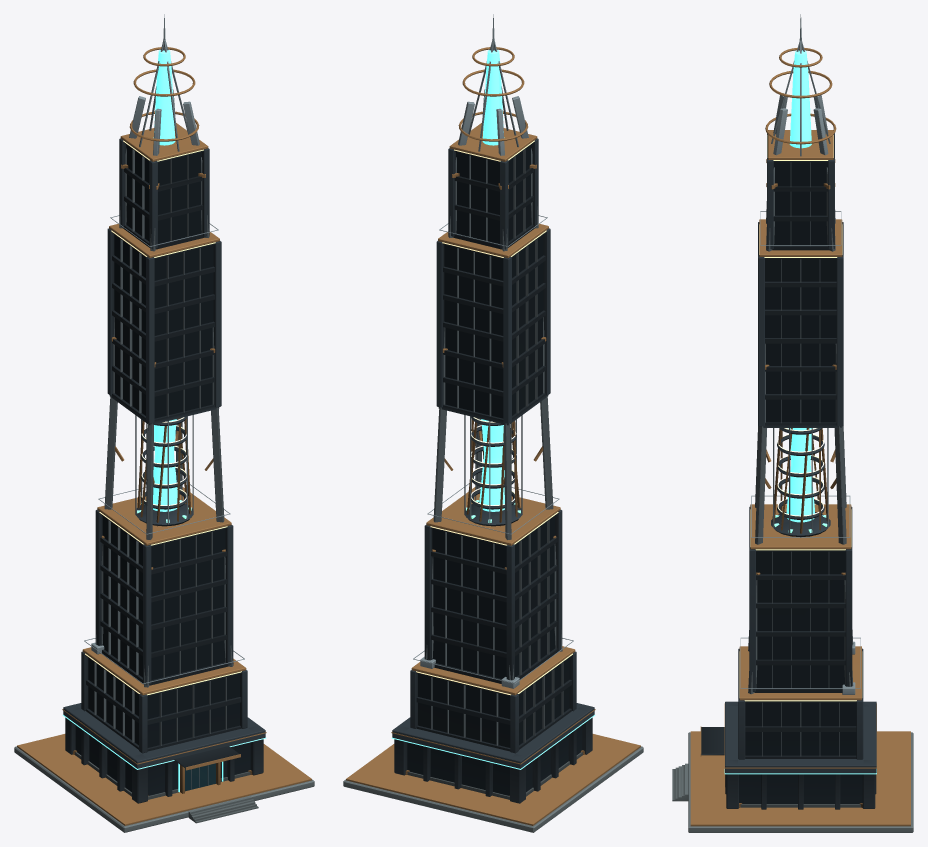
File: agent-spire.lod1.glb
3 views of the same model, side by side, from view 1: azimuth 30°, elevation 25°; view 2: azimuth 150°, elevation 25°; view 3: azimuth 270°, elevation 25° (orthographic). The views are drawn at different scales.
Visible parts, largest first — view 1: structure, lobby; view 2: structure, lobby; view 3: structure, lobby.
Boxes of the visible parts, box(x1,y1,x2,y2) form: structure: box(14, 14, 314, 832); lobby: box(75, 725, 250, 795); structure: box(343, 14, 643, 832); lobby: box(407, 725, 582, 795); structure: box(672, 14, 913, 832); lobby: box(739, 774, 862, 803).
Bounding box in the file's own units: 23 × 86.9 × 24.6.
